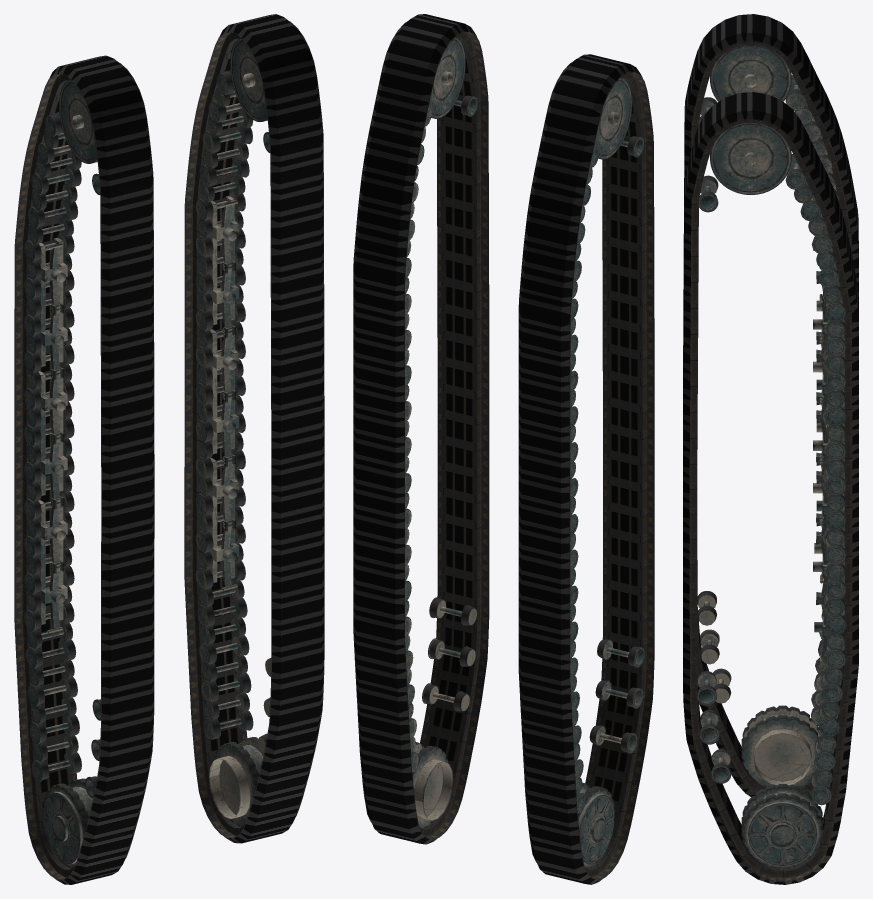
The model's file is Chassis.glb.
3 views of the same model, side by side, from view 1: azimuth 30°, elevation 25°; view 2: azimuth 150°, elevation 25°; view 3: azimuth 270°, elevation 25° (orthographic). The views are drawn at different scales.
Parts seen in each view (by area): view 1: set_0_group_0, set_1_group_0, set_3_group_0, set_2_group_0; view 2: set_1_group_0, set_0_group_0, set_2_group_0, set_3_group_0; view 3: set_0_group_0, set_3_group_0, set_2_group_0, set_1_group_0.
Part boxes in pixels (x1,y1,x2,y2): set_0_group_0: (184,14,324,843); set_1_group_0: (14,55,154,884); set_3_group_0: (195,38,271,826); set_2_group_0: (24,80,100,868); set_1_group_0: (518,54,654,884); set_0_group_0: (353,14,489,844); set_2_group_0: (570,78,644,868); set_3_group_0: (405,38,477,828); set_0_group_0: (683,92,858,884); set_3_group_0: (697,123,846,868); set_2_group_0: (697,45,844,786); set_1_group_0: (683,14,858,796).
Bounding box in the file's own units: 2.94 × 10.39 × 2.14.
4 materials, 4 textured.
